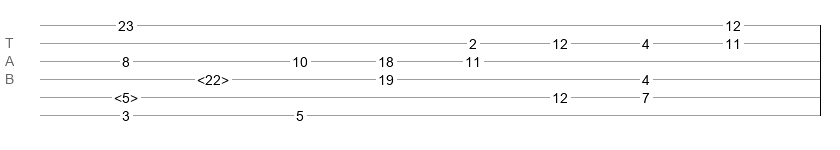10: (292, 54, 308, 64)
11: (465, 54, 481, 64), (725, 36, 741, 46)
12: (552, 90, 568, 100), (552, 36, 568, 46), (725, 18, 741, 28)
18: (378, 54, 394, 64)
19: (378, 72, 394, 82)
2: (469, 36, 477, 46)
23: (118, 18, 134, 28)
3: (122, 108, 130, 118)
4: (642, 36, 650, 46), (642, 72, 650, 82)
5: (296, 108, 304, 118)
7: (642, 90, 650, 100)
8: (122, 54, 130, 64)
harmonic: (197, 72, 229, 82), (114, 90, 138, 100)
